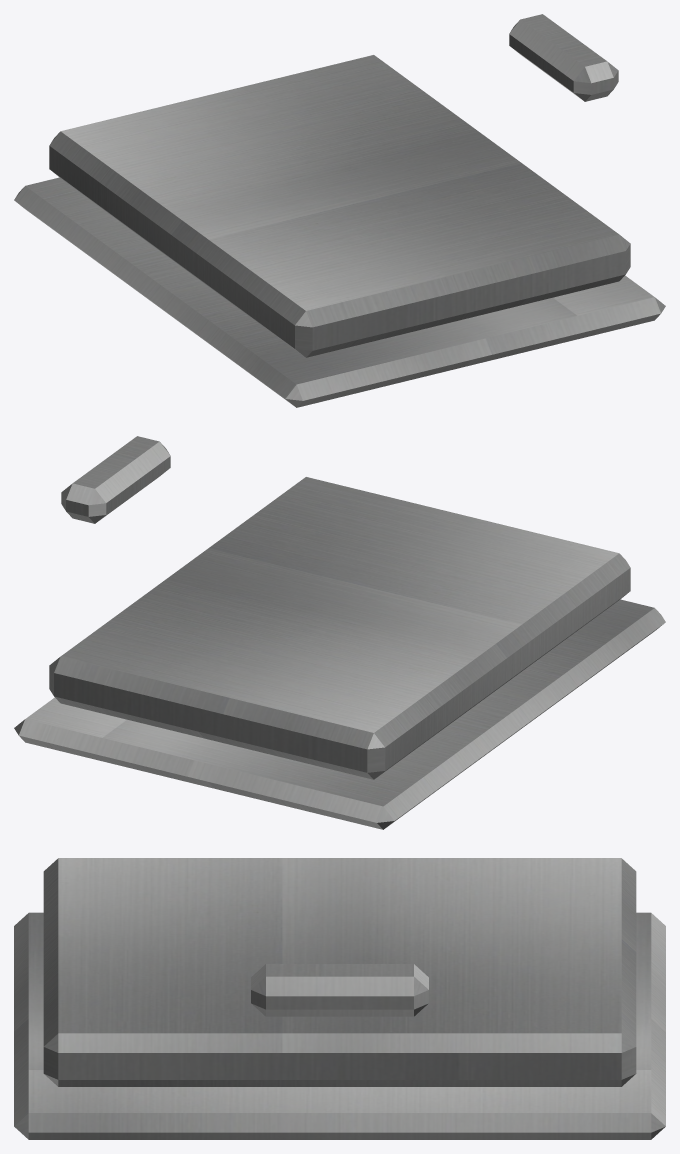
Rendered from hatch_rect.glb.
3 views of the same model, one above another, from view 1: azimuth 30°, elevation 25°; view 2: azimuth 150°, elevation 25°; view 3: azimuth 270°, elevation 25° (orthographic). The views are drawn at different scales.
Visible parts, largest first — view 1: Cube; view 2: Cube; view 3: Cube.
Part boxes in pixels (box(x1,y1,x2,y2)): Cube: box(14, 14, 665, 407); Cube: box(14, 436, 665, 829); Cube: box(14, 858, 665, 1139).
Bounding box in the file's own units: 0.195 × 0.0725 × 0.22.
Materials: 1 (1 with a texture image).
